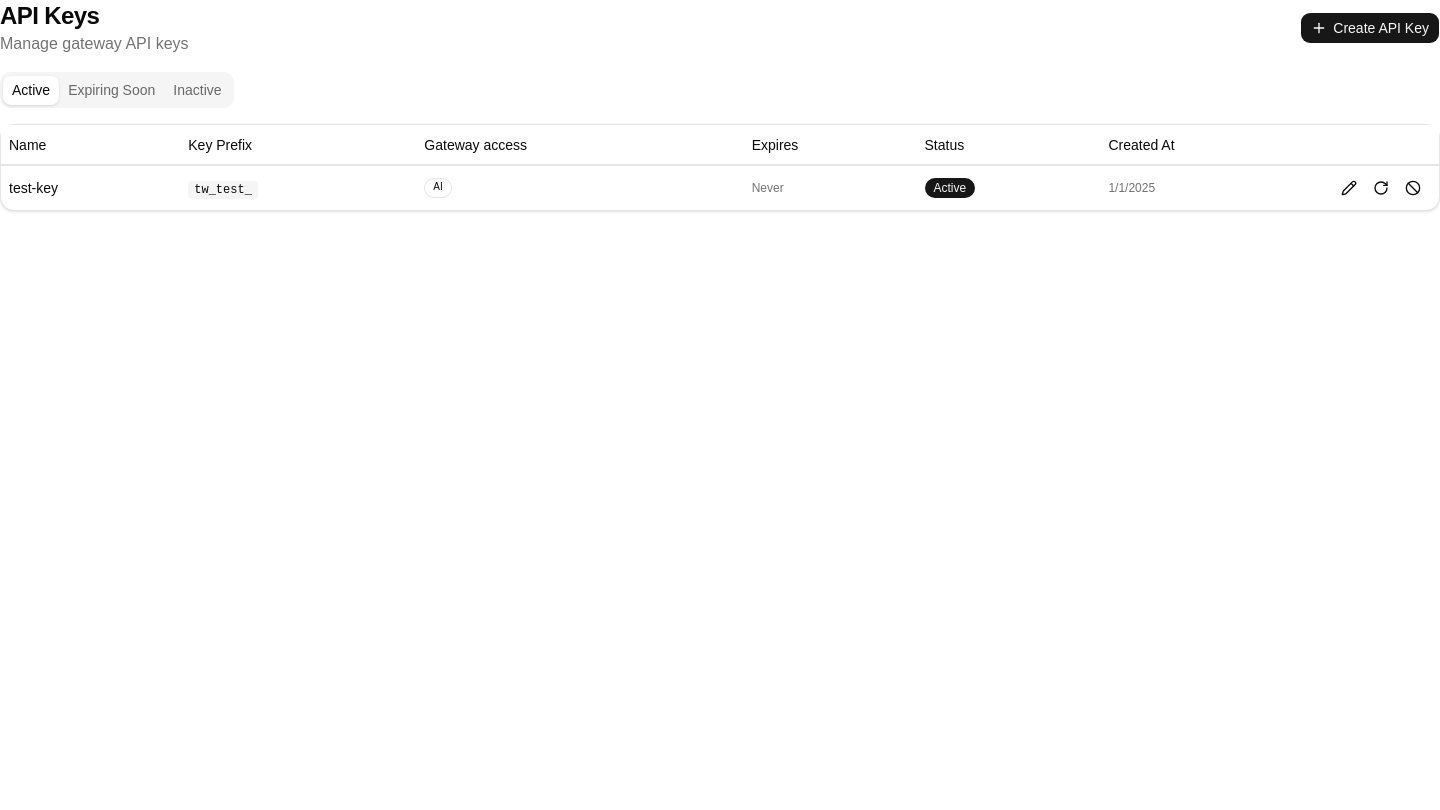
Test: ApiKeysPage › shows no limits tab without rate_limits:read
Click the button named "Edit" at x=1349, y=188, box [1335,174,1363,202]
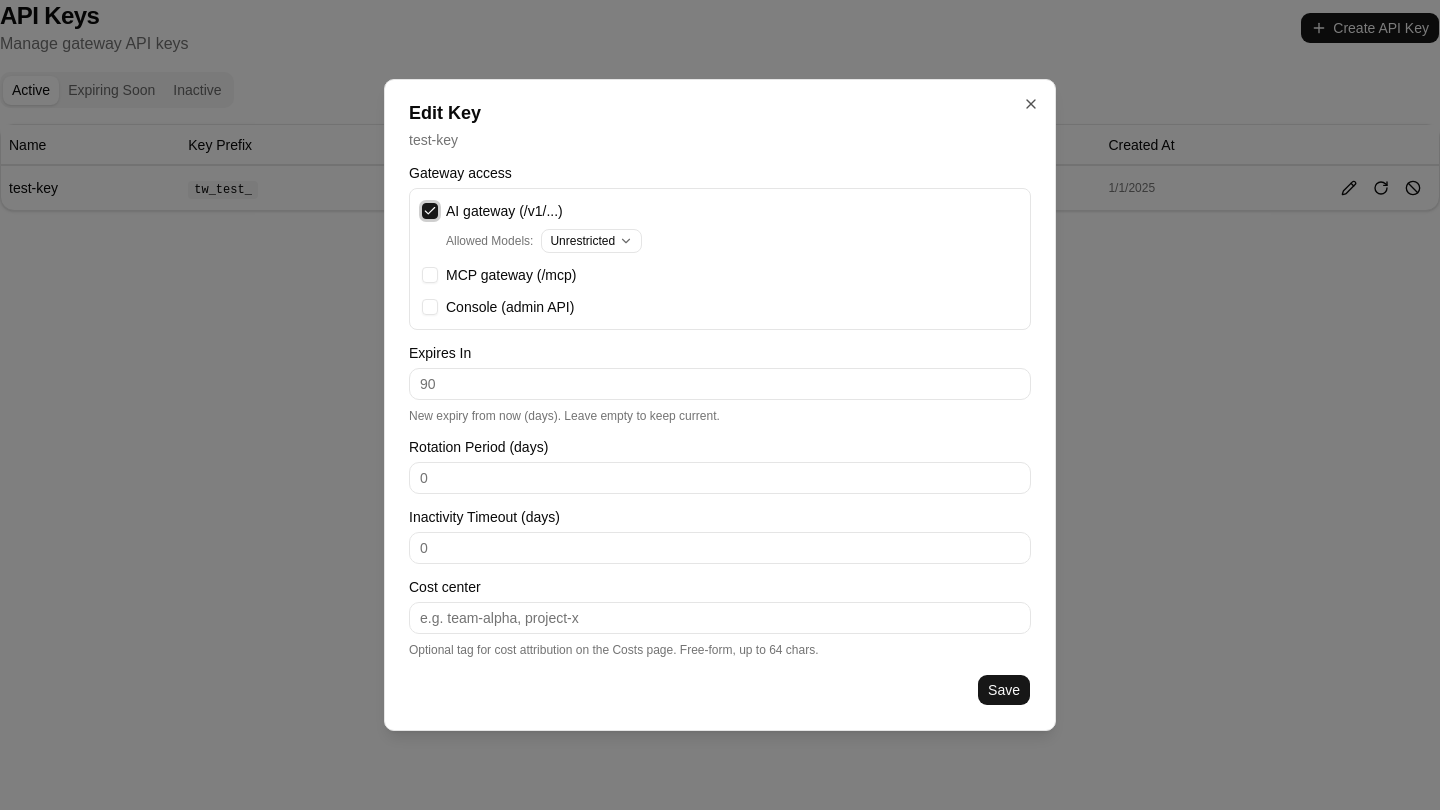
Expected: the heading "Edit Key" is shown, [409,103,481,123]
